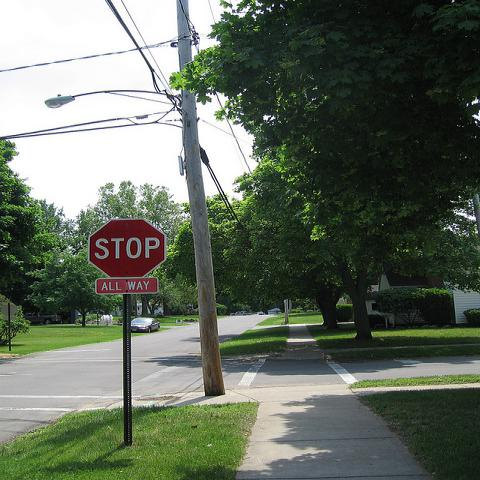car: (131, 318, 160, 333), (230, 311, 252, 316)
